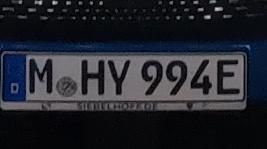4: (189, 58, 214, 96)
9: (138, 58, 164, 97), (164, 58, 189, 98)
E: (215, 57, 240, 96)
H: (80, 58, 106, 97)
M: (28, 57, 55, 95)
Y: (106, 57, 132, 98)
